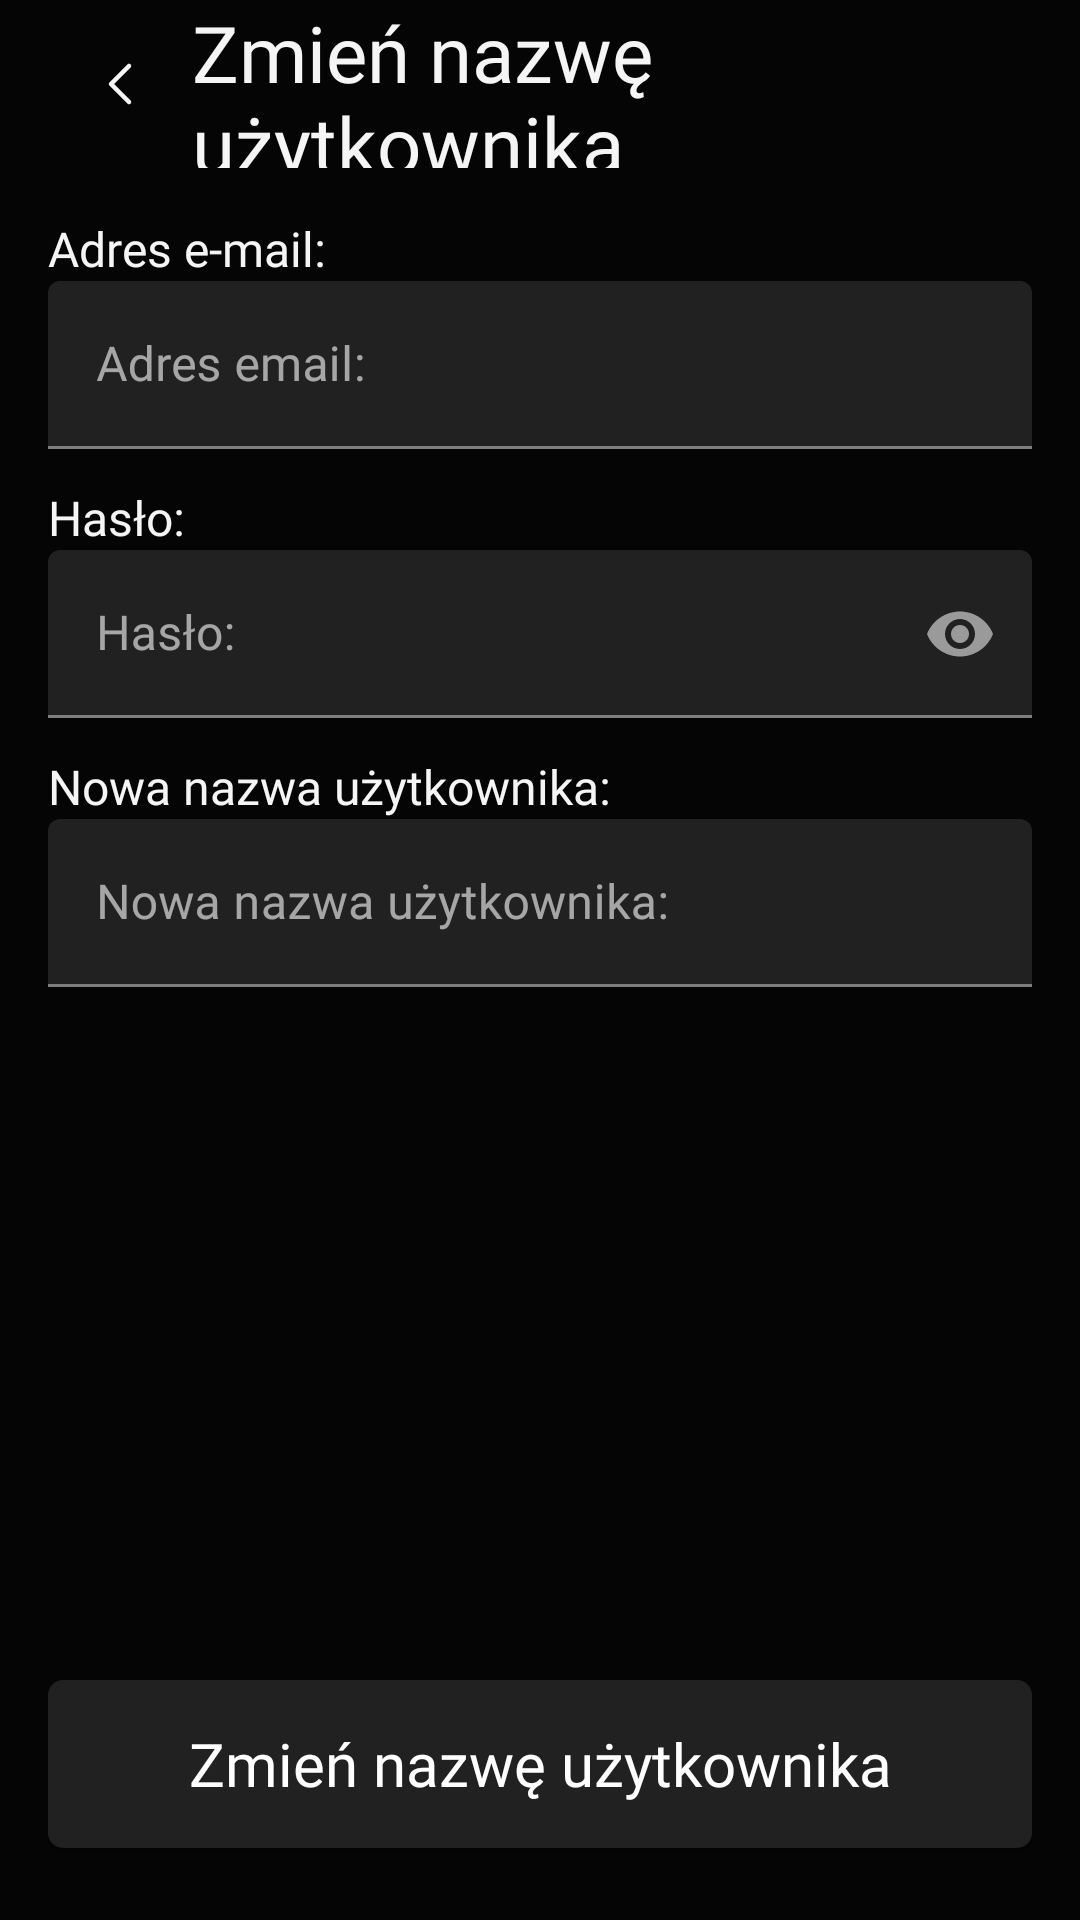

Screen size 1080*1920. Icon name, then its box in pixels as [left=x1, top=y1, right=x2, bottom=y2]:
Go Back: [left=108, top=63, right=132, bottom=105]
